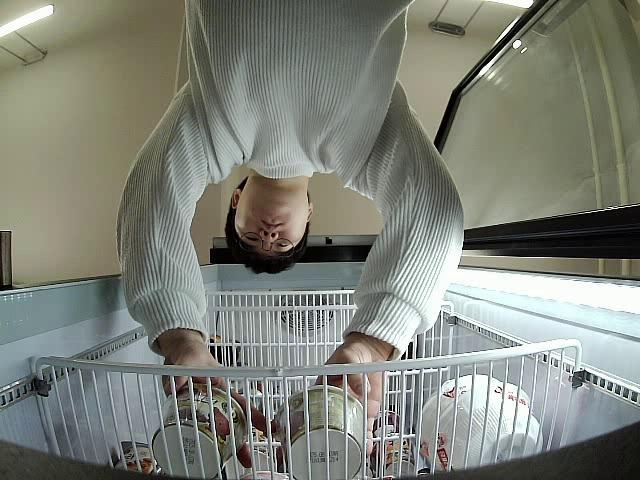04_chapagetti_S: (274, 388, 375, 480), (152, 385, 248, 480)
